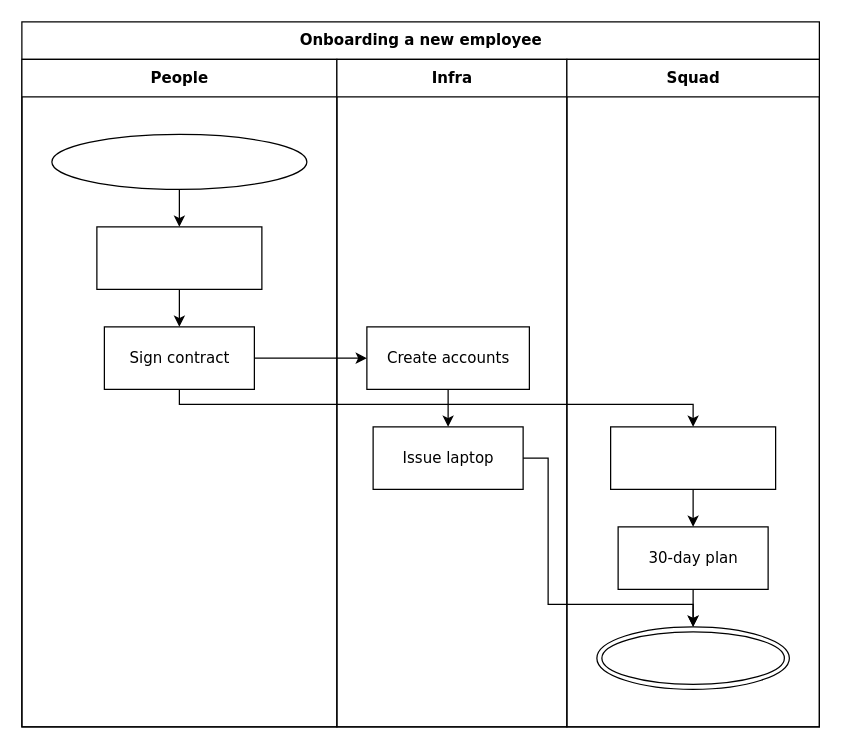
Some shapes in this 841 by 749 pixel diagram are drawn without their labels. The centre of each missing label's shape, as x and y in pixels:
"Assign a mentor" belongs at point 692,457.
"Prepare contract" belongs at point 179,257.
"Receive hire decision" belongs at point 179,161.
"Start working" belongs at point 692,657.
